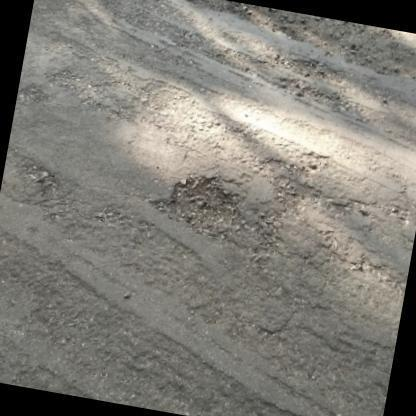pothole: (224, 0, 416, 81), (254, 144, 328, 220), (158, 175, 242, 241), (1, 143, 70, 216)
